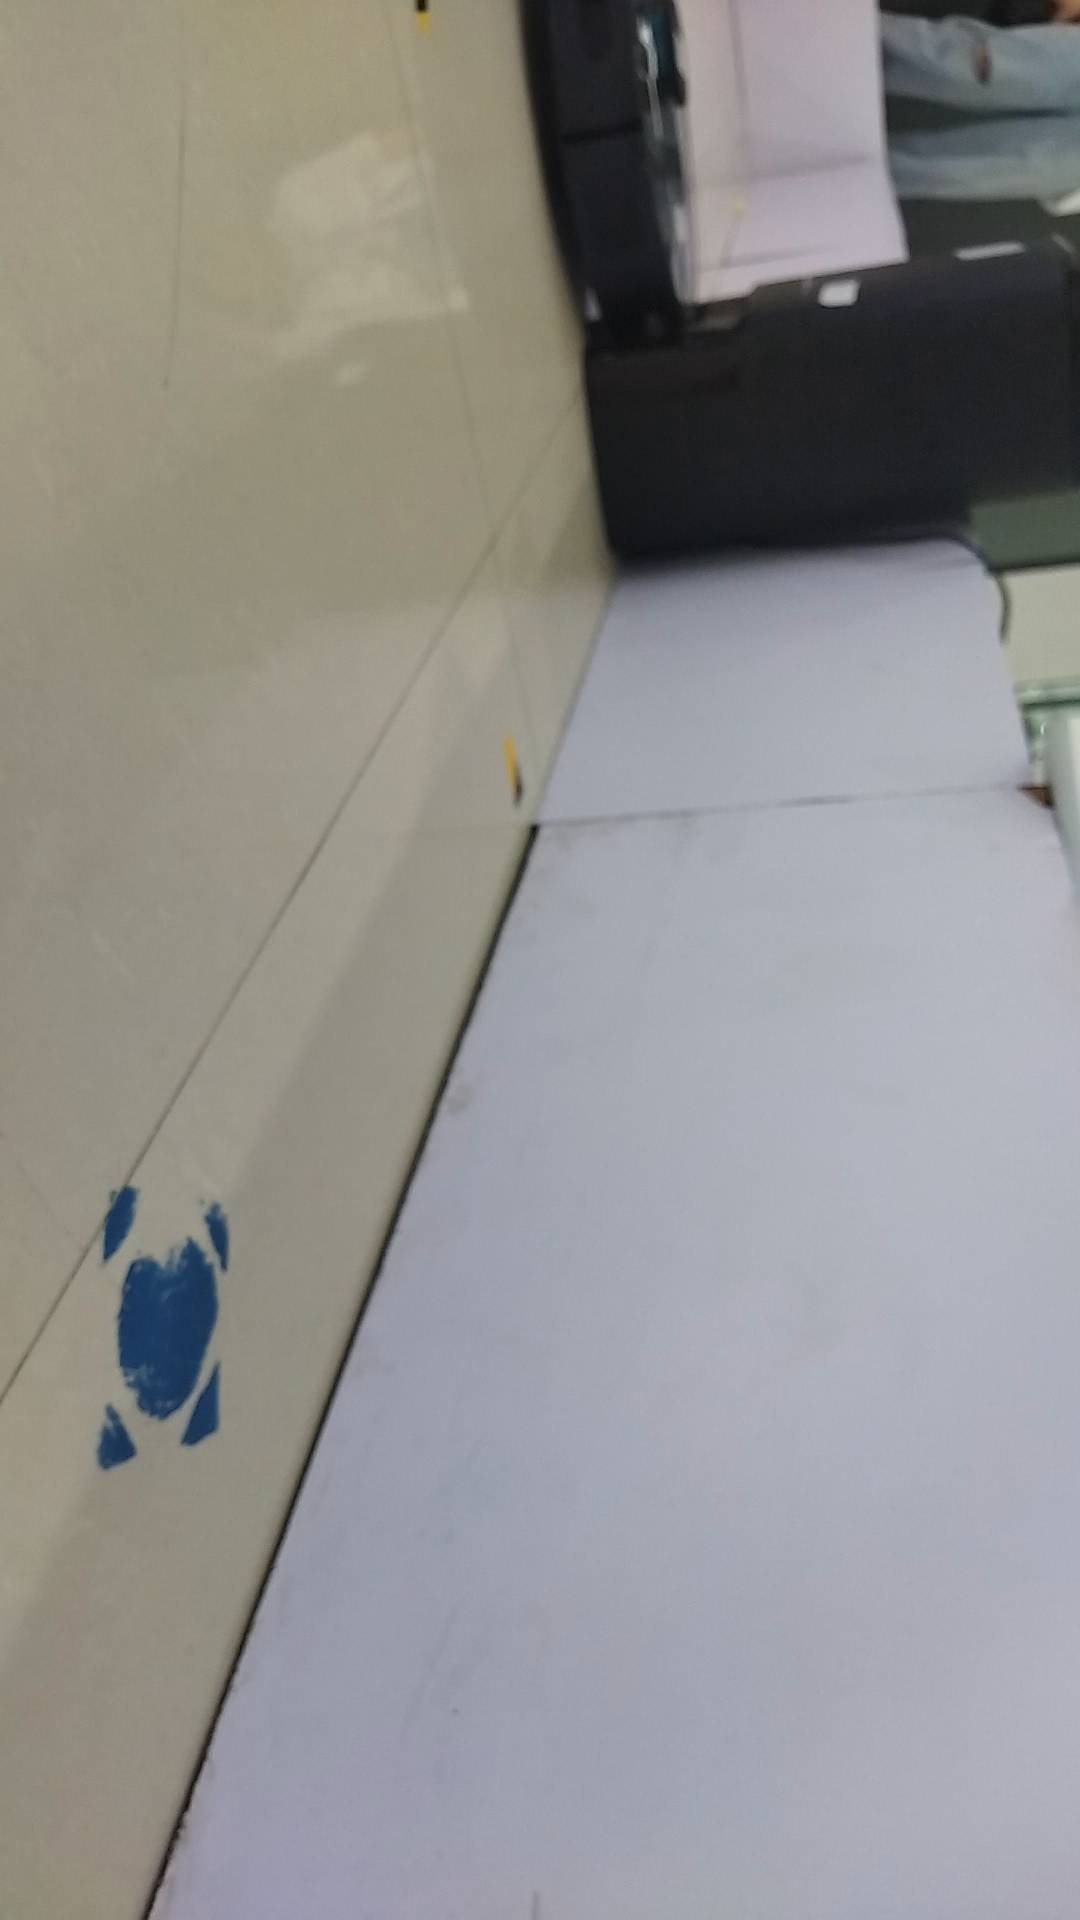dust collecting barrel: (582, 237, 1080, 580)
